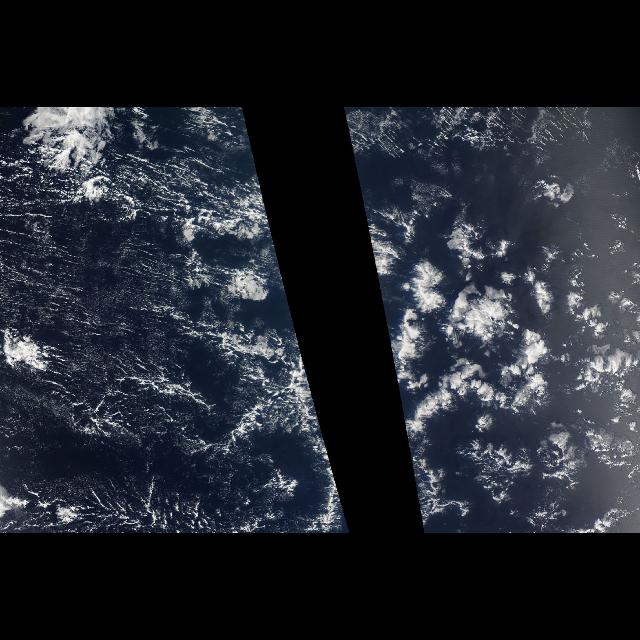Flower: (358, 188, 634, 528)
Sugar: (3, 110, 350, 526), (342, 110, 370, 240)
